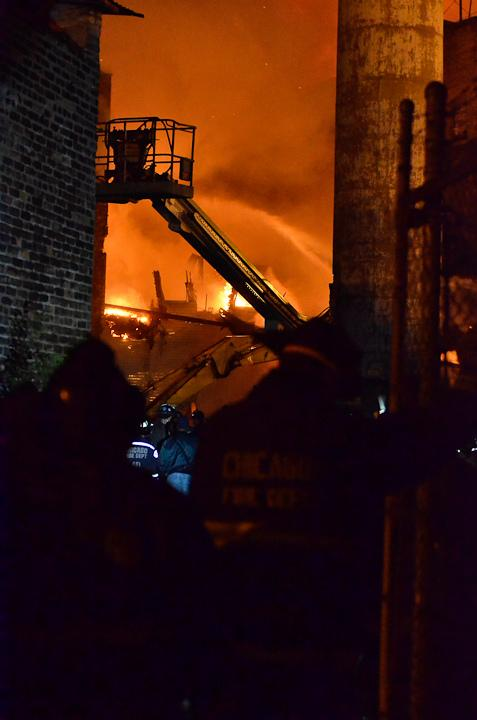fire: (212, 274, 242, 316), (110, 294, 140, 334)
